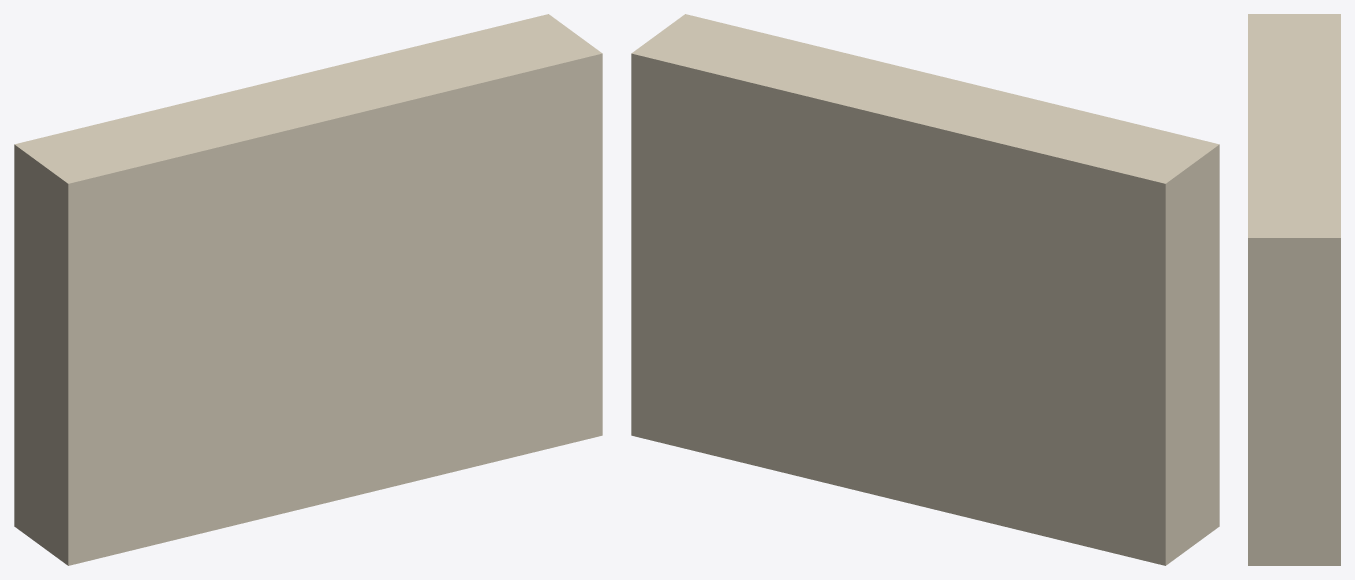
3 renders of one model, left to right at view 1: azimuth 30°, elevation 25°; view 2: azimuth 150°, elevation 25°; view 3: azimuth 270°, elevation 25°, orthographic. The views are drawn at different scales.
Visible parts, largest first — view 1: A-FF-WINDOW-011-SILL; view 2: A-FF-WINDOW-011-SILL; view 3: A-FF-WINDOW-011-SILL.
Boxes of the visible parts, left/top/right/bottom form: A-FF-WINDOW-011-SILL: left=14, top=14, right=602, bottom=565; A-FF-WINDOW-011-SILL: left=631, top=14, right=1219, bottom=565; A-FF-WINDOW-011-SILL: left=1248, top=14, right=1340, bottom=565.
Size of the model in its own units: 1.2 by 0.82 by 0.21.
